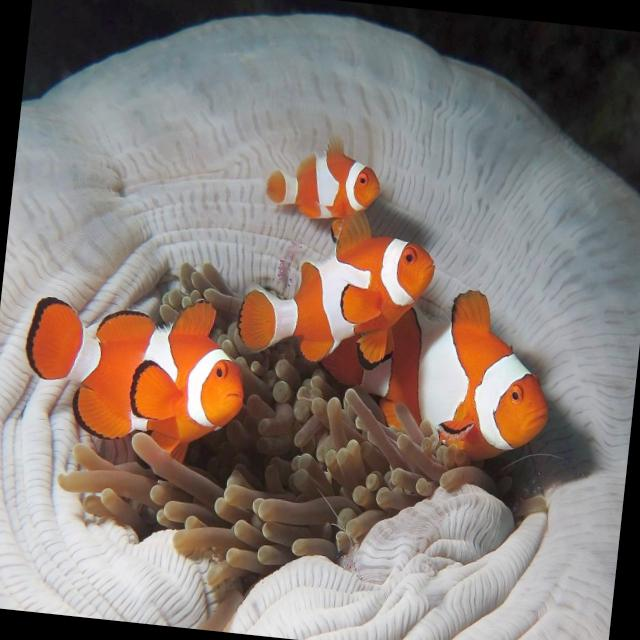ButterflyFish: (321, 274, 560, 460), (16, 283, 250, 462), (234, 204, 440, 372), (264, 130, 386, 238)
